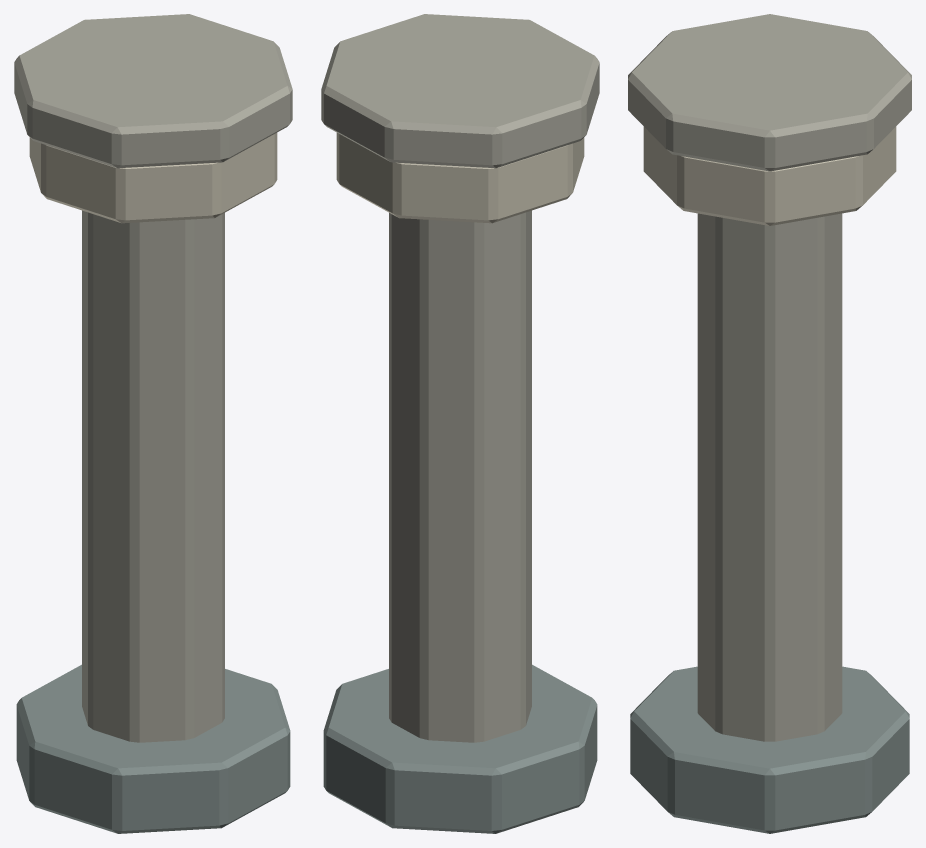
The model's file is column.glb.
3 views of the same model, side by side, from view 1: azimuth 30°, elevation 25°; view 2: azimuth 150°, elevation 25°; view 3: azimuth 270°, elevation 25° (orthographic).
Visible parts, largest first — view 1: TV_column; view 2: TV_column; view 3: TV_column.
Boxes of the visible parts, x1,y1,x2,y2 form: TV_column: (14,14,292,833); TV_column: (321,14,599,833); TV_column: (628,14,911,833).
Size of the model in its own units: 1.26 by 3.45 by 1.26.
